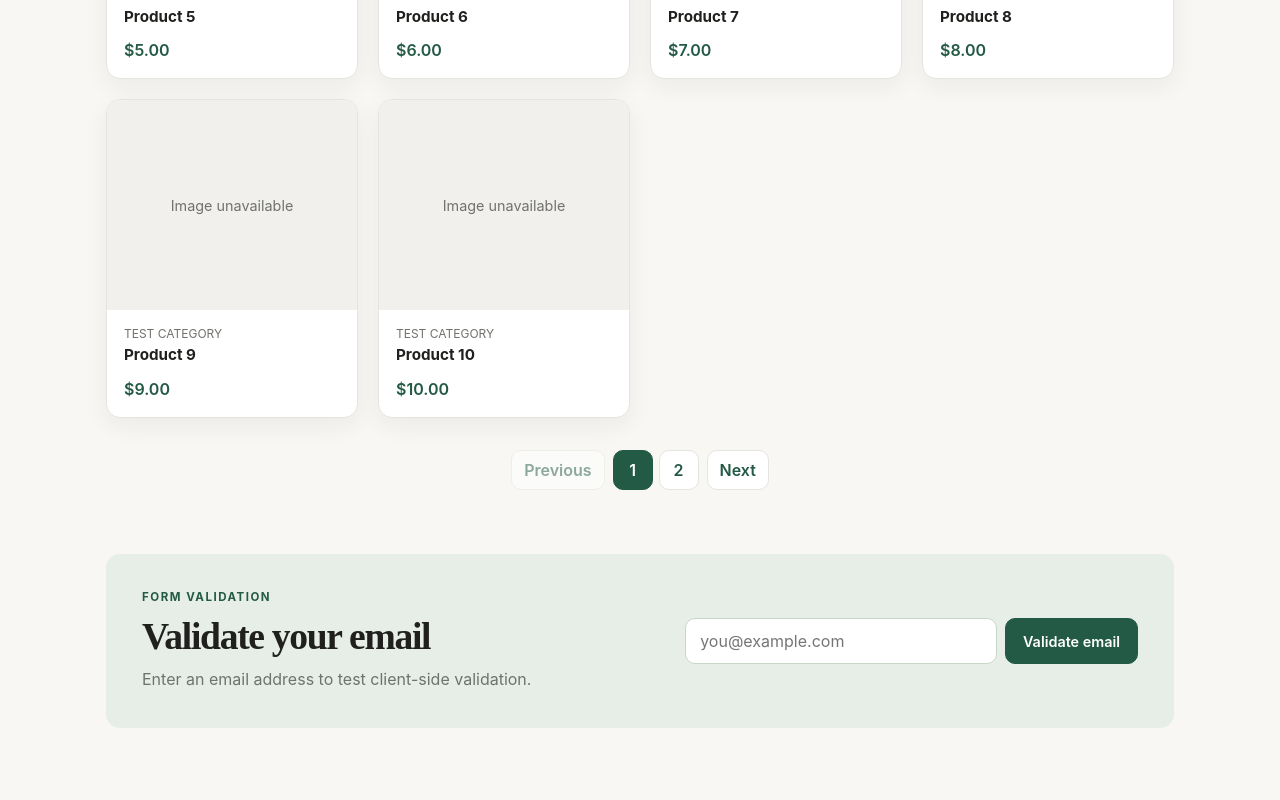
ProductList › shows ten products per page and displays the remaining item on the next page
(page scrolled)
Expected: the text "Product 11" is not shown
Click the button "Next". click: (738, 470)
box: [706,450,769,490]
(page scrolled)
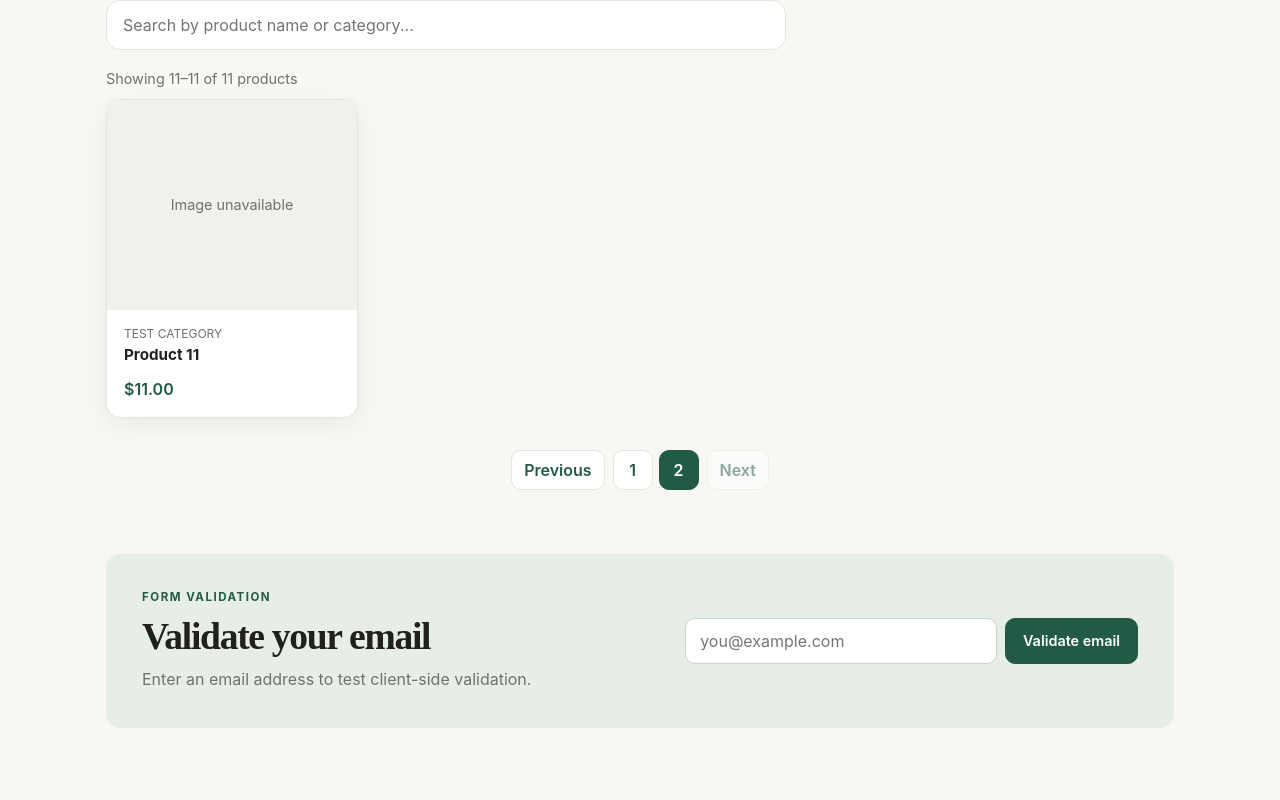
Now the heading "Product 11" is shown, box [124,345,199,364]
Now the text "Showing 11–11 of 11 products" is shown, box [106,70,298,87]
